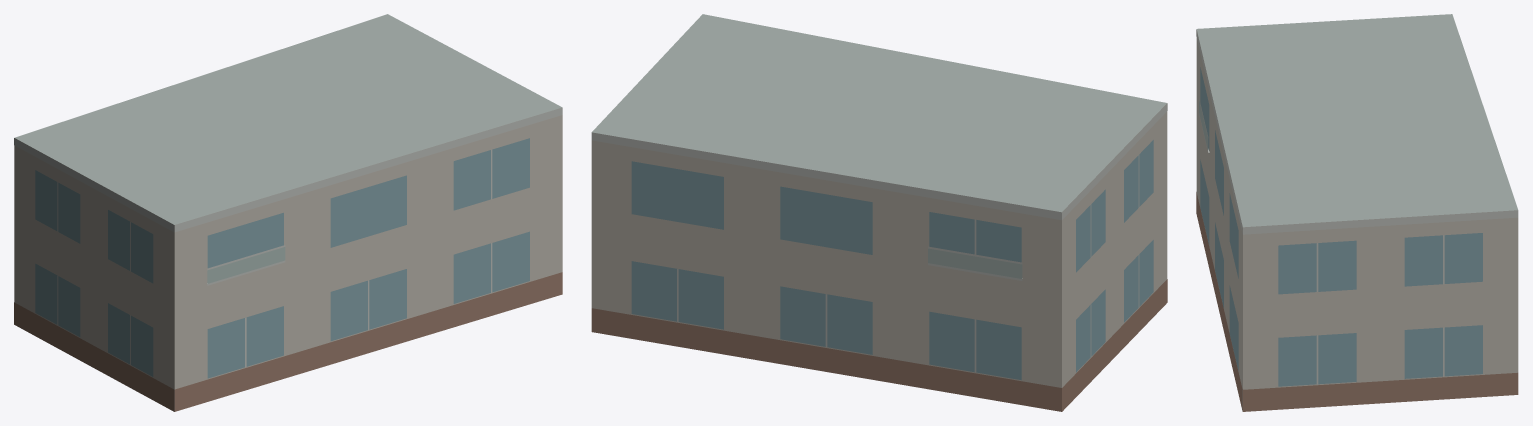
File: survey-upis-32698576.glb
3 renders of one model, left to right at view 1: azimuth 30°, elevation 25°; view 2: azimuth 150°, elevation 25°; view 3: azimuth 270°, elevation 25°, orthographic. The views are drawn at different scales.
Parts seen in each view (by area): view 1: survey-upis-32698576.tmp; view 2: survey-upis-32698576.tmp; view 3: survey-upis-32698576.tmp.
Boxes of the visible parts, x1=… form: survey-upis-32698576.tmp: x1=14, y1=14, x2=562, y2=411; survey-upis-32698576.tmp: x1=591, y1=14, x2=1167, y2=411; survey-upis-32698576.tmp: x1=1196, y1=14, x2=1518, y2=411.
Size of the model in its own units: 15.12 by 6.1 by 9.65.
